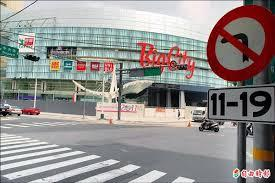no_left_turn: (205, 5, 274, 80)
